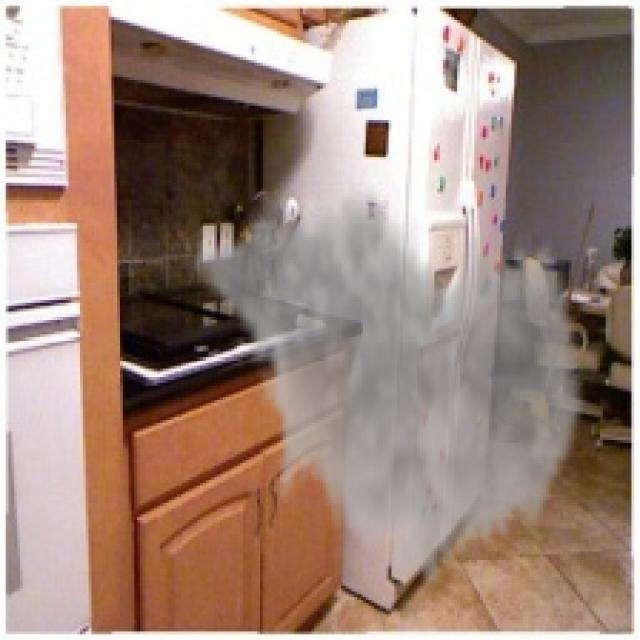smoke: (188, 174, 588, 597)
